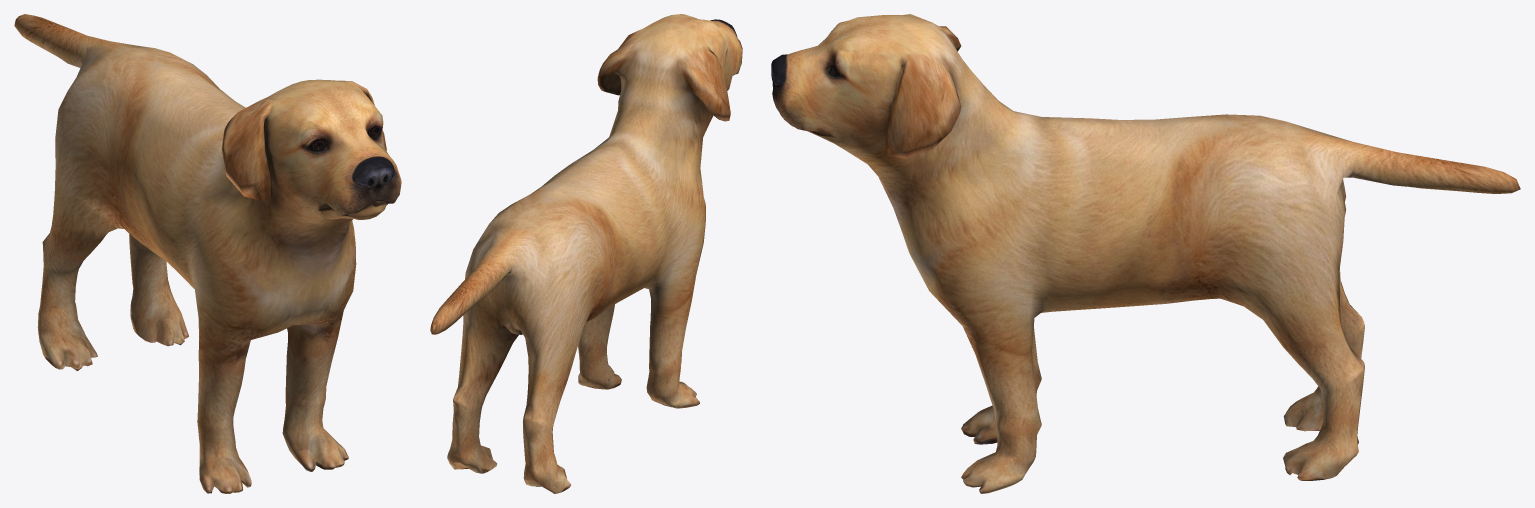
The model's file is dog2.fbx.
3 renders of one model, left to right at view 1: azimuth 30°, elevation 25°; view 2: azimuth 150°, elevation 25°; view 3: azimuth 270°, elevation 25°, orthographic. The views are drawn at different scales.
Visible parts, largest first — view 1: _Dog_v1_L2:Dog_body; view 2: _Dog_v1_L2:Dog_body; view 3: _Dog_v1_L2:Dog_body.
Boxes of the visible parts, x1=… form: _Dog_v1_L2:Dog_body: x1=14, y1=14, x2=401, y2=493; _Dog_v1_L2:Dog_body: x1=430, y1=14, x2=742, y2=493; _Dog_v1_L2:Dog_body: x1=771, y1=14, x2=1520, y2=493.
Size of the model in its own units: 13.24 by 34.82 by 54.12.
1 material, 1 textured.
